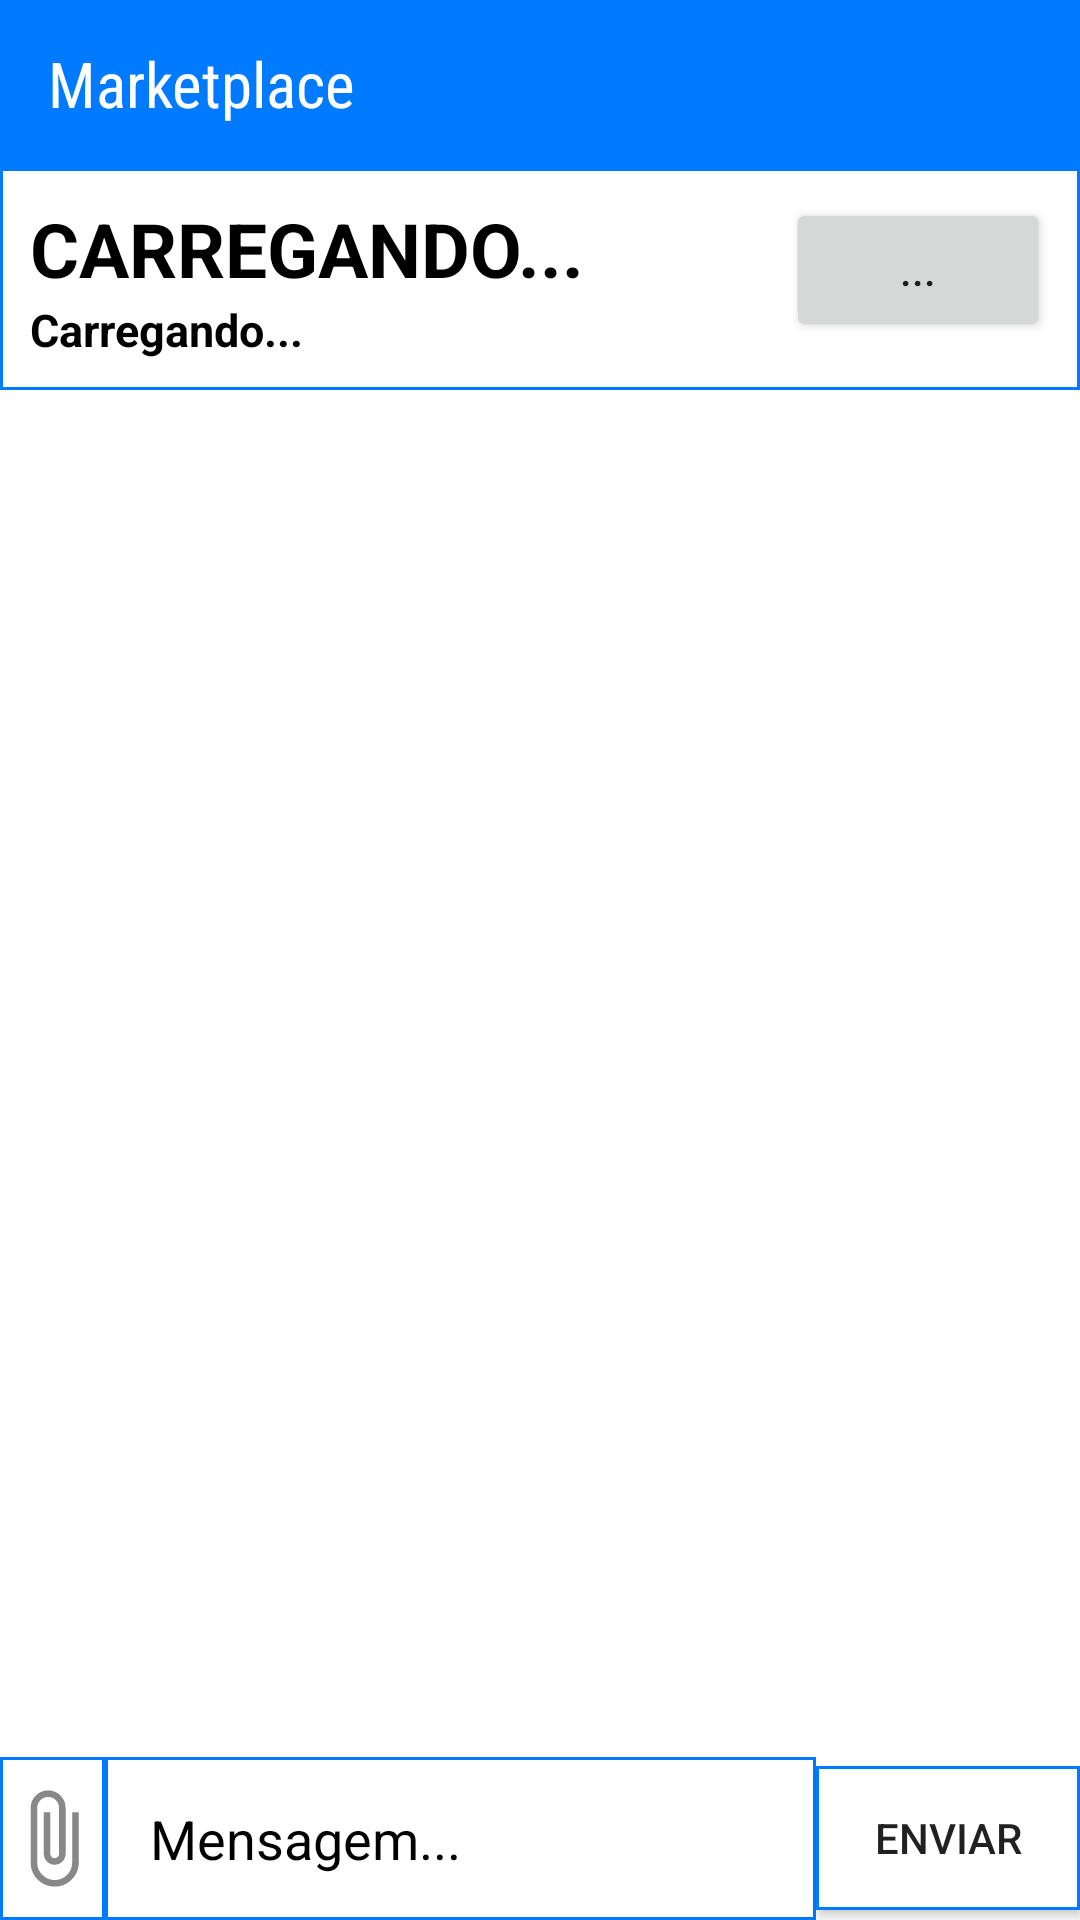

Screen size 1080 × 1920. Icon name, then its box in pixels as bbox=(x1, y1, x2, y2):
attach file: bbox=(3, 1760, 102, 1917)
